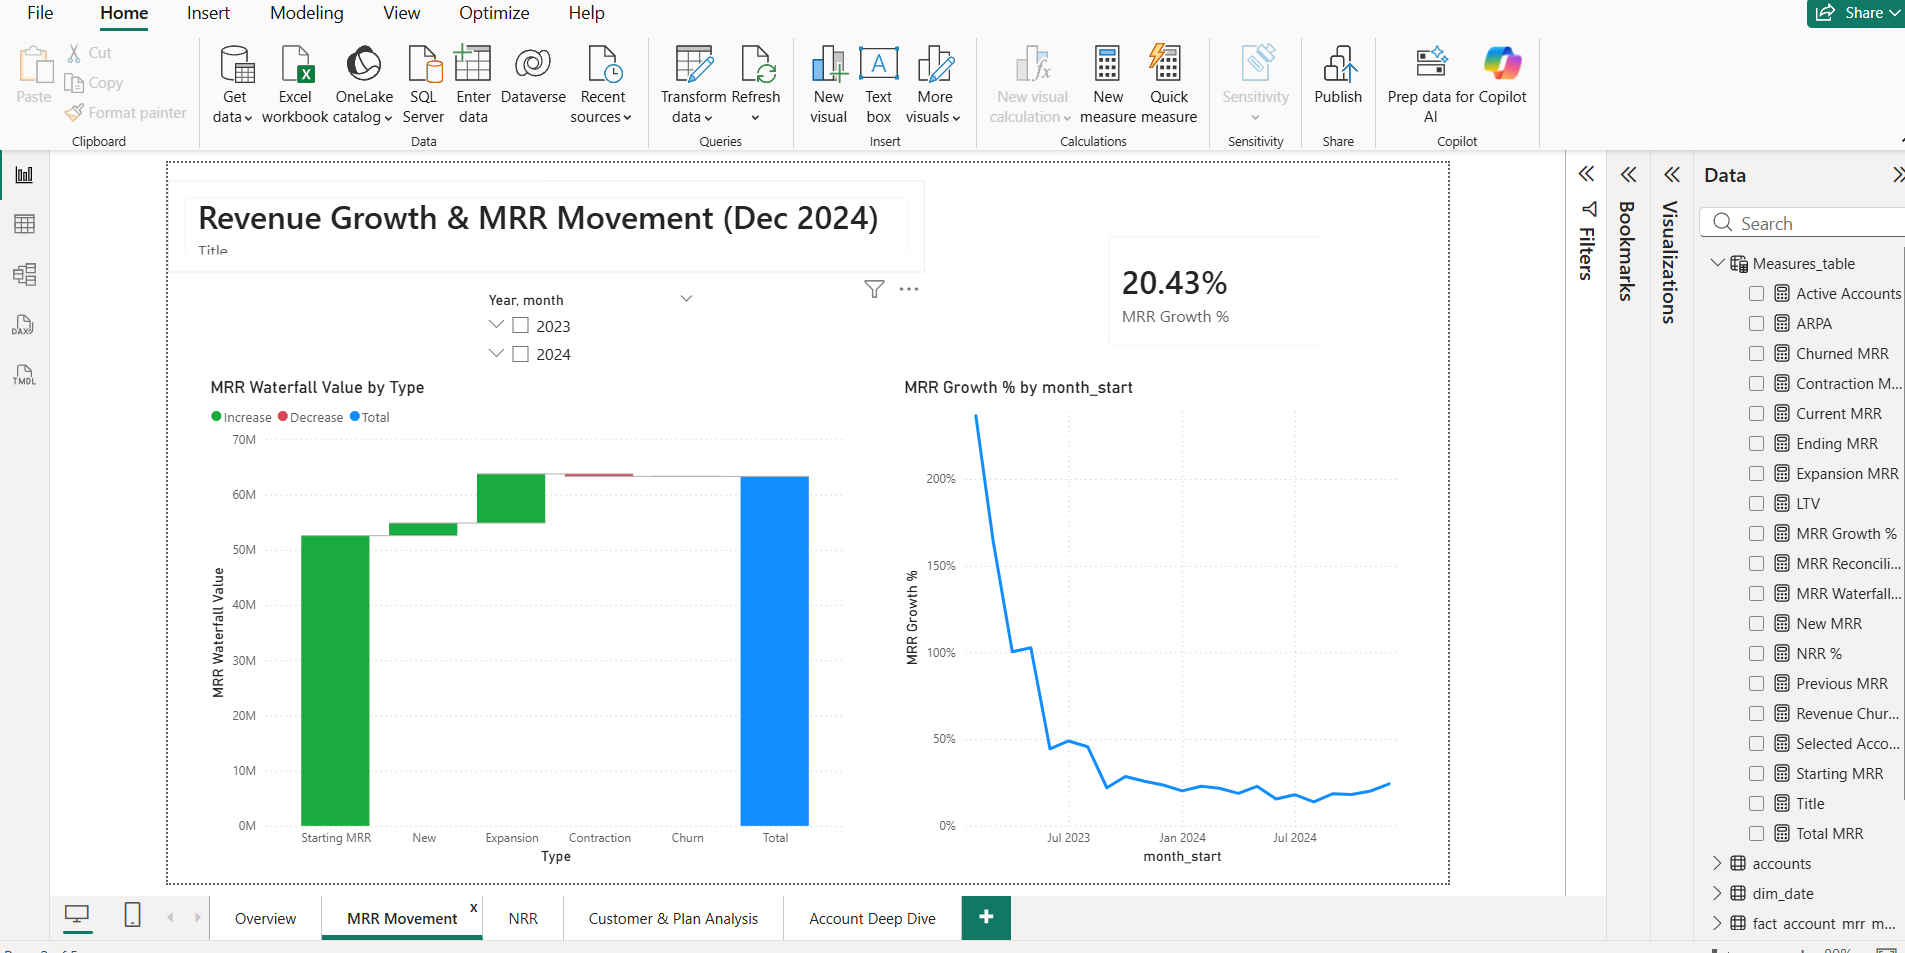

The page's visual inventory and layout, read from the dashboard file:
{"tool":"powerbi","page":{"name":"MRR Movement","canvas":[1280,720],"ordinal":1},"visuals":[{"type":"waterfallChart","fields":{"Category":["MRR Waterfall.Type"],"Y":["Measures_table.MRR Waterfall Value"]},"box":[37.1,214.3,645.7,492.9],"z":0},{"type":"slicer","fields":{"Values":["dim_date.Year","dim_date.month"]},"box":[307.1,124.3,230,90],"z":1},{"type":"cardVisual","fields":{"Data":["Measures_table.MRR Growth %"]},"box":[924.3,55.7,248.6,144.3],"z":2},{"type":"lineChart","fields":{"Category":["dim_date.month_start"],"Y":["Measures_table.MRR Growth %"]},"box":[731.4,214.3,517.1,492.9],"z":3},{"type":"cardVisual","fields":{"Data":["Measures_table.Title"]},"box":[0,17.1,757.1,92.9],"z":4}]}

Visuals, with their boxes on the page's 1280x720 design canvas (x1, y1, x2, y2). These are canvas units, not pixel positions in the 1905x953 screenshot, which may show the page scaled, cropped or inside an application window:
waterfallChart - MRR Waterfall.Type x Measures_table.MRR Waterfall Value: [left=37, top=214, right=683, bottom=707]
slicer - dim_date.Year x dim_date.month: [left=307, top=124, right=537, bottom=214]
cardVisual - Measures_table.MRR Growth %: [left=924, top=56, right=1173, bottom=200]
lineChart - dim_date.month_start x Measures_table.MRR Growth %: [left=731, top=214, right=1248, bottom=707]
cardVisual - Measures_table.Title: [left=0, top=17, right=757, bottom=110]
